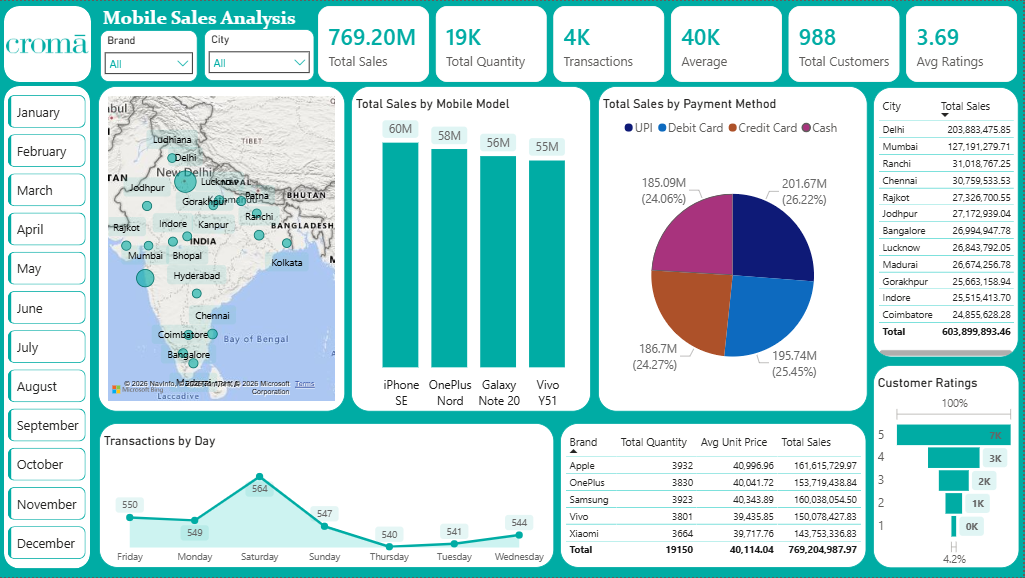

The dashboard page shown, as its layout file describes it:
{"tool":"powerbi","page":{"name":"Page 1","canvas":[1280,720],"ordinal":0},"visuals":[{"type":"shape","box":[5.6,6.2,108.8,95],"z":0},{"type":"image","box":[8.1,21.2,103.1,64.4],"z":1000},{"type":"shape","box":[6.7,105.8,107.6,603.1],"z":1000,"group":"g1"},{"type":"group","id":"g1","title":"Group 4","box":[6.7,105.8,107.6,603.1],"z":1001,"group":"g2"},{"type":"group","id":"g2","title":"Group 3","box":[6.7,105.8,108.3,603.3],"z":2000},{"type":"advancedSlicerVisual","fields":{"Values":["Croma Sales.Sale_Date.Variation.Date Hierarchy.Month"]},"box":[12.1,116.7,97.6,582.3],"z":2001,"group":"g1"},{"type":"cardVisual","fields":{"Data":["Croma Sales.Total Sales","Croma Sales.Total Quantity","Croma Sales.Transactions","Croma Sales.Average","Croma Sales.Total Customers","Croma Sales.Avg Ratings"]},"box":[399,6,875,95],"z":3000},{"type":"map","fields":{"Category":["Croma Sales.City"],"Size":["Croma Sales.Total Sales"]},"box":[123.3,106.7,308.9,406.7],"z":4000},{"type":"lineChart","title":"Transactions by Day","fields":{"Category":["Croma Sales.Day Name"],"Y":["Croma Sales.Transactions"]},"box":[124.7,528,568.7,180.7],"z":5000},{"type":"clusteredColumnChart","fields":{"Y":["Croma Sales.Total Sales"],"Category":["Croma Sales.Mobile Model"]},"box":[440,106.7,300,406.7],"z":6000},{"type":"pieChart","fields":{"Y":["Croma Sales.Total Sales"],"Category":["Croma Sales.Payment Method"]},"box":[748.3,106.7,336.7,406.7],"z":7000},{"type":"tableEx","fields":{"Values":["Croma Sales.Brand","Croma Sales.Total Quantity","Croma Sales.Avg Unit Price","Croma Sales.Total Sales"]},"box":[701.3,528,383.3,180.7],"z":8000},{"type":"funnel","title":"Customer Ratings","fields":{"Category":["Croma Sales.Customer Ratings"],"Y":["Sum(Croma Sales.Customer Ratings)"]},"box":[1092.3,454.6,183.1,253.8],"z":9000},{"type":"tableEx","fields":{"Values":["Croma Sales.City","Croma Sales.Total Sales"]},"box":[1092.3,106.9,182.3,338.5],"z":10000},{"type":"group","id":"g3","title":"Group 1","box":[125.6,35,267.5,66.2],"z":11000},{"type":"slicer","fields":{"Values":["Croma Sales.Brand"]},"box":[125.6,36,122,65],"z":11000,"group":"g3"},{"type":"textbox","box":[124.7,6,268.7,29.3],"z":12000},{"type":"slicer","fields":{"Values":["Croma Sales.City"]},"box":[255.6,35,138,65],"z":13000,"group":"g3"}]}

Visuals, with their boxes in screenshot pixels (x1, y1, x2, y2), scaled from the page's 1280x720 canvas onto the 1025x578 screenshot:
shape: x1=4 y1=5 x2=92 y2=81
image: x1=6 y1=17 x2=89 y2=69
shape: x1=5 y1=85 x2=92 y2=569
"Group 4" group: x1=5 y1=85 x2=92 y2=569
"Group 3" group: x1=5 y1=85 x2=92 y2=569
advancedSlicerVisual - Croma Sales.Sale_Date.Variation.Date Hierarchy.Month: x1=10 y1=94 x2=88 y2=561
cardVisual - Croma Sales.Total Sales x Croma Sales.Total Quantity: x1=320 y1=5 x2=1020 y2=81
map - Croma Sales.City x Croma Sales.Total Sales: x1=99 y1=86 x2=346 y2=412
"Transactions by Day" lineChart: x1=100 y1=424 x2=555 y2=569
clusteredColumnChart - Croma Sales.Total Sales x Croma Sales.Mobile Model: x1=352 y1=86 x2=593 y2=412
pieChart - Croma Sales.Total Sales x Croma Sales.Payment Method: x1=599 y1=86 x2=869 y2=412
tableEx - Croma Sales.Brand x Croma Sales.Total Quantity: x1=562 y1=424 x2=869 y2=569
"Customer Ratings" funnel: x1=875 y1=365 x2=1021 y2=569
tableEx - Croma Sales.City x Croma Sales.Total Sales: x1=875 y1=86 x2=1021 y2=358
"Group 1" group: x1=101 y1=28 x2=315 y2=81
slicer - Croma Sales.Brand: x1=101 y1=29 x2=198 y2=81
textbox: x1=100 y1=5 x2=315 y2=28
slicer - Croma Sales.City: x1=205 y1=28 x2=315 y2=80
